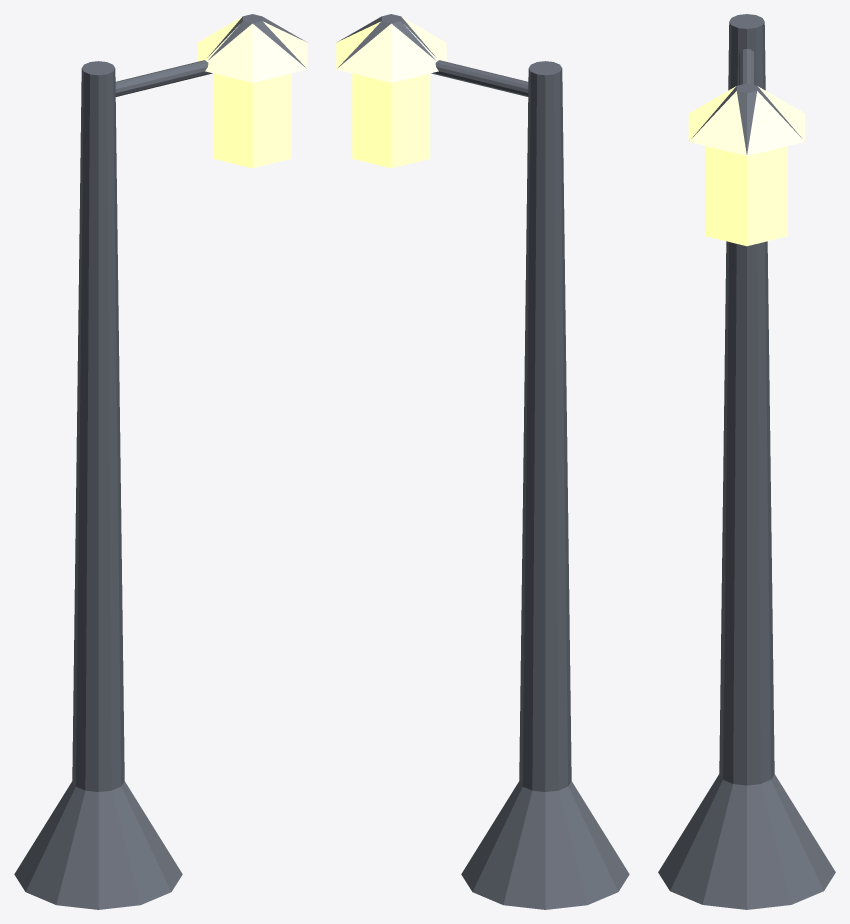
The model's file is lamp_post.glb.
3 renders of one model, left to right at view 1: azimuth 30°, elevation 25°; view 2: azimuth 150°, elevation 25°; view 3: azimuth 270°, elevation 25°, orthographic. The views are drawn at different scales.
Parts seen in each view (by area): view 1: LampPost; view 2: LampPost; view 3: LampPost.
Part boxes in pixels (<box>): LampPost: <box>14,14,307,909</box>; LampPost: <box>336,14,629,909</box>; LampPost: <box>658,14,835,909</box>.
Size of the model in its own units: 1.74 by 4.82 by 0.9.
